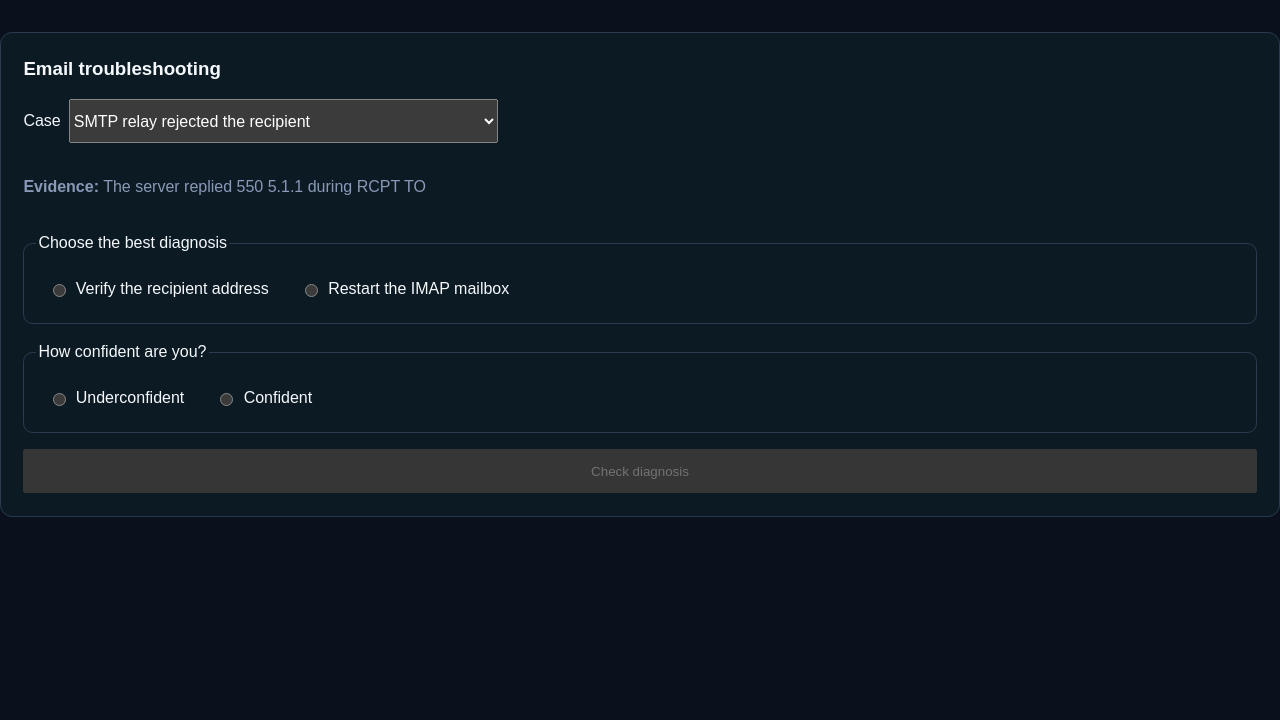
ServiceTroubleshootingLab › immediately explains a wrong answer and still records the attempt
Click the radio button labelled "Restart the IMAP mailbox" at (311,291), box [305,284,318,298]
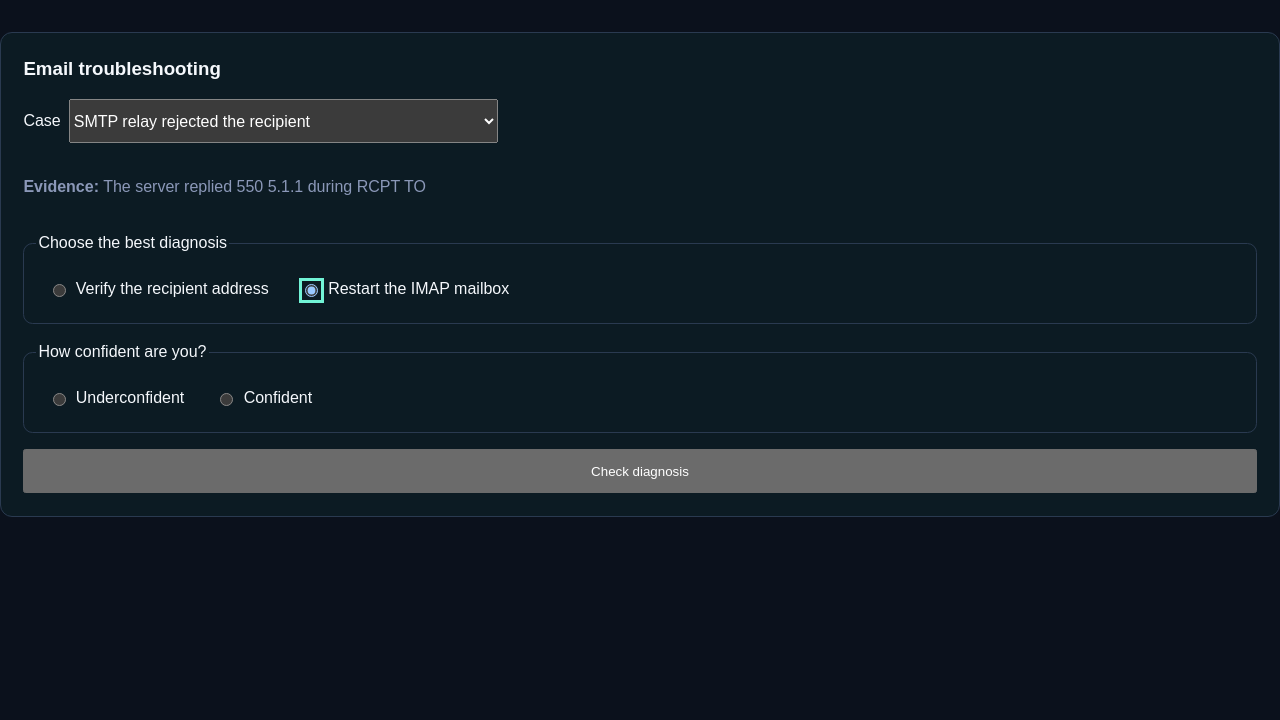
Click the button "Check diagnosis" at (640,472), box [23,450,1257,494]
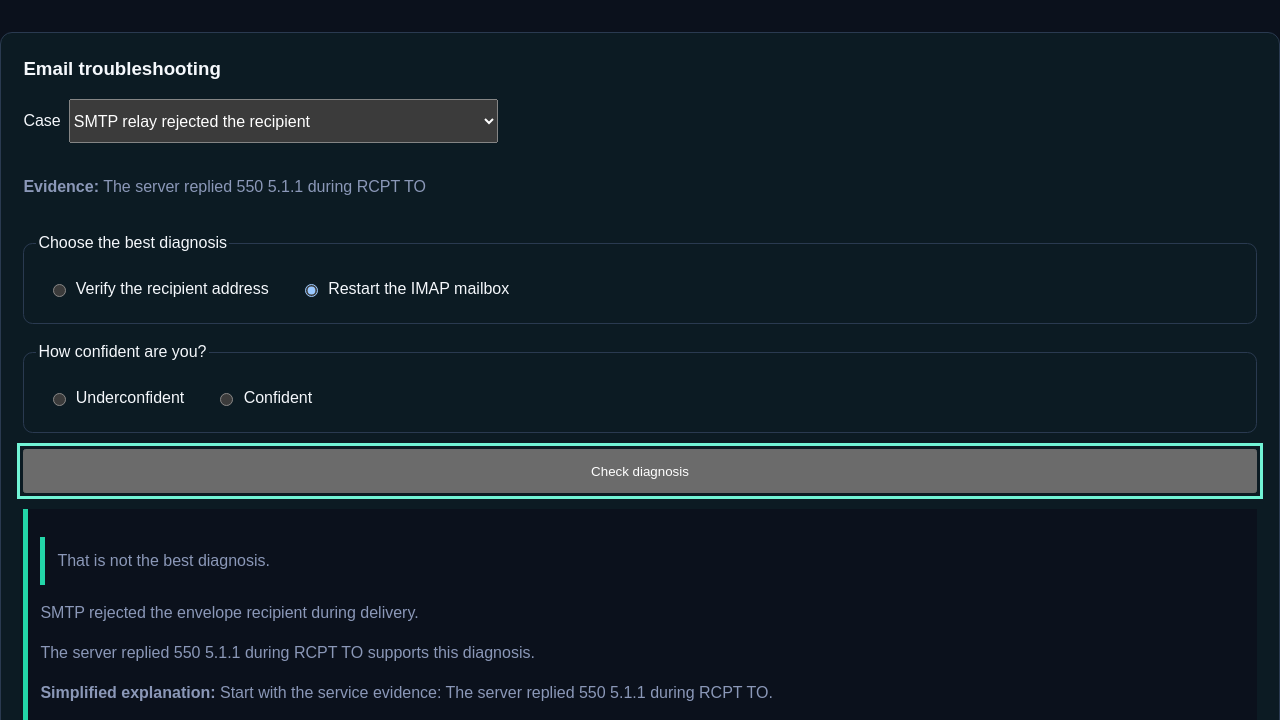
Result: the message shows "not the best diagnosis" at [57,552,270,570]
Result: the text "Simplified explanation:" is shown at [40,684,216,702]
